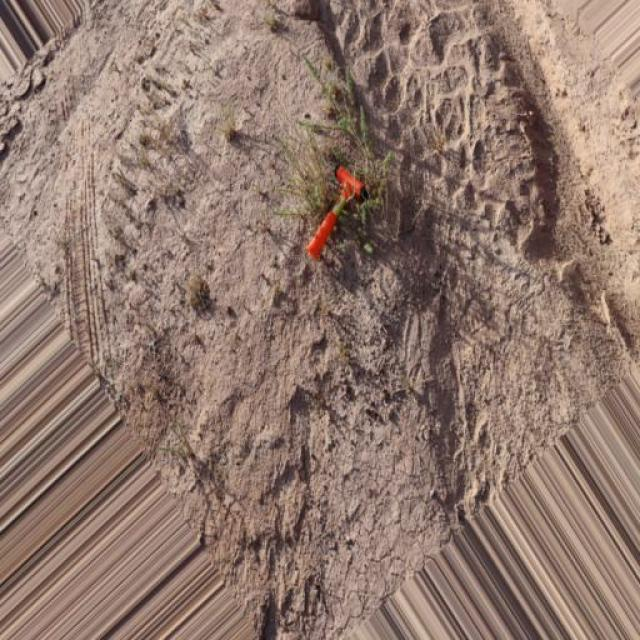mallet: (304, 164, 366, 261)
